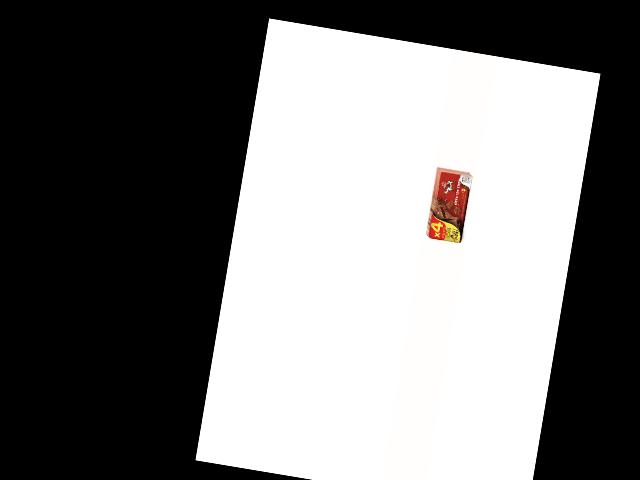chocolate: (425, 168, 474, 244)
